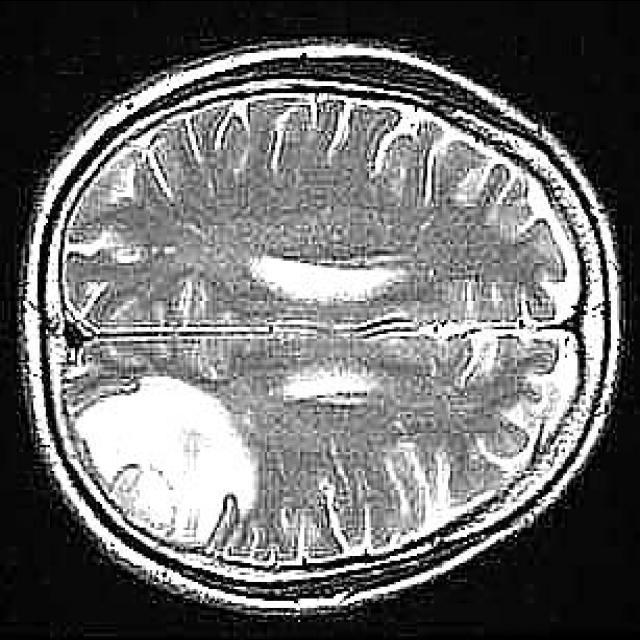tumor: (80, 373, 263, 560)
